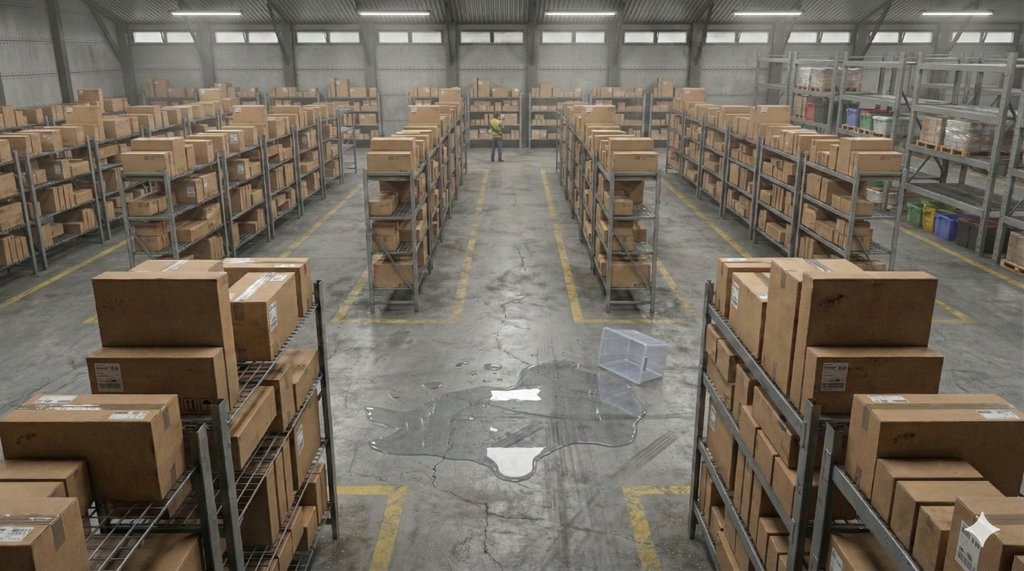empty_shelf: (842, 45, 1009, 108), (906, 151, 990, 214), (759, 50, 794, 108)
person: (485, 113, 520, 163)
spill: (356, 323, 673, 484)
